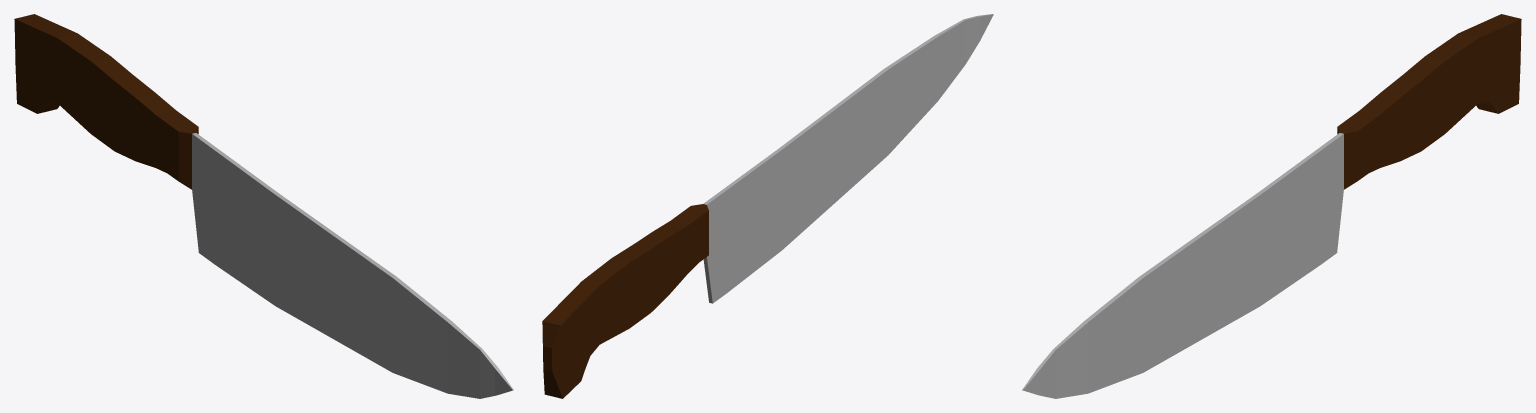
Rendered from faca.fbx.
3 renders of one model, left to right at view 1: azimuth 30°, elevation 25°; view 2: azimuth 150°, elevation 25°; view 3: azimuth 330°, elevation 25°, orthographic. The views are drawn at different scales.
Parts seen in each view (by area): view 1: Cube; view 2: Cube; view 3: Cube.
Part boxes in pixels (box(x1,y1,x2,y2)): Cube: box(14, 14, 513, 398); Cube: box(542, 14, 993, 398); Cube: box(1022, 14, 1521, 398).
Size of the model in its own units: 17.09 by 98.09 by 727.
